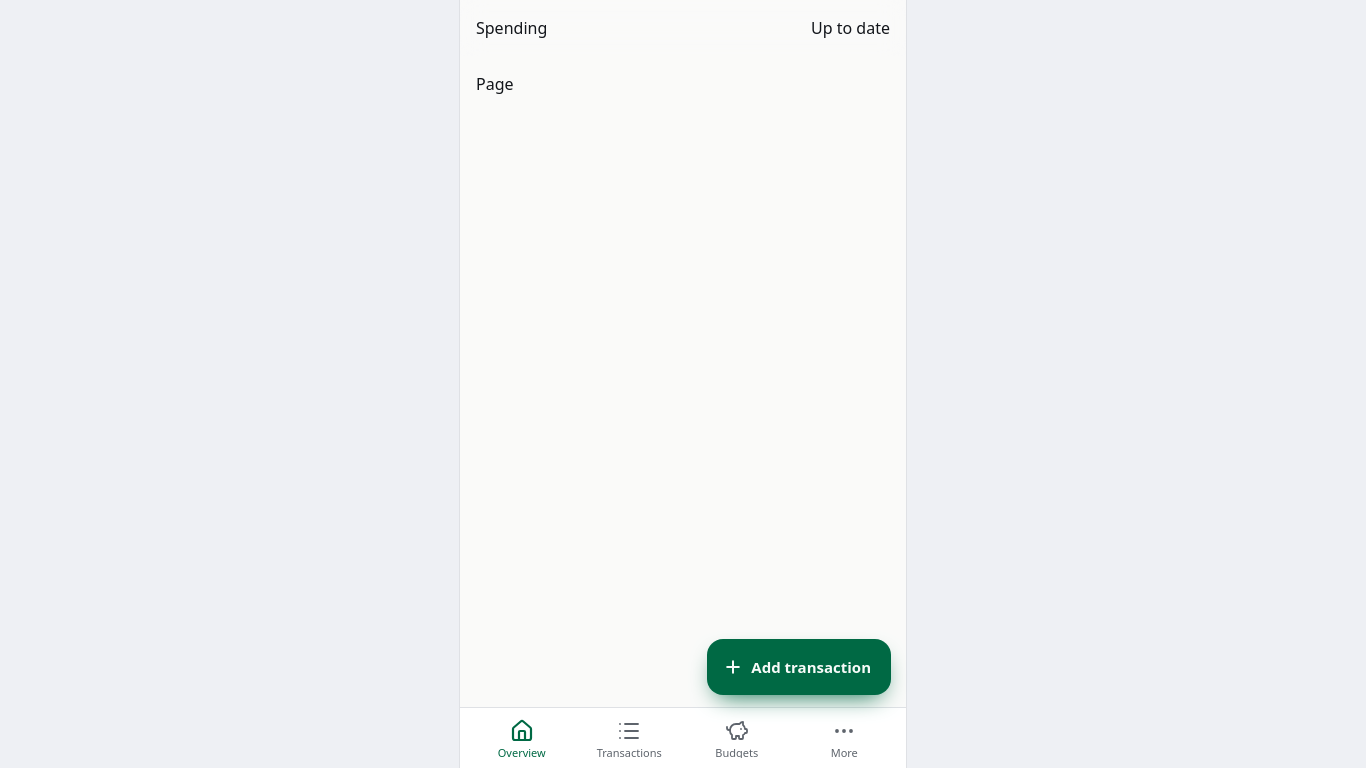
Test: cards shell › offers every destination and the add action from labelled navigation
Expected: the navigation bar named "Main navigation" is shown, [459, 707, 907, 767]
Expected: the link "Overview" is shown, [498, 718, 546, 760]
Click the button "More": {"x": 844, "y": 738} [790, 708, 898, 767]
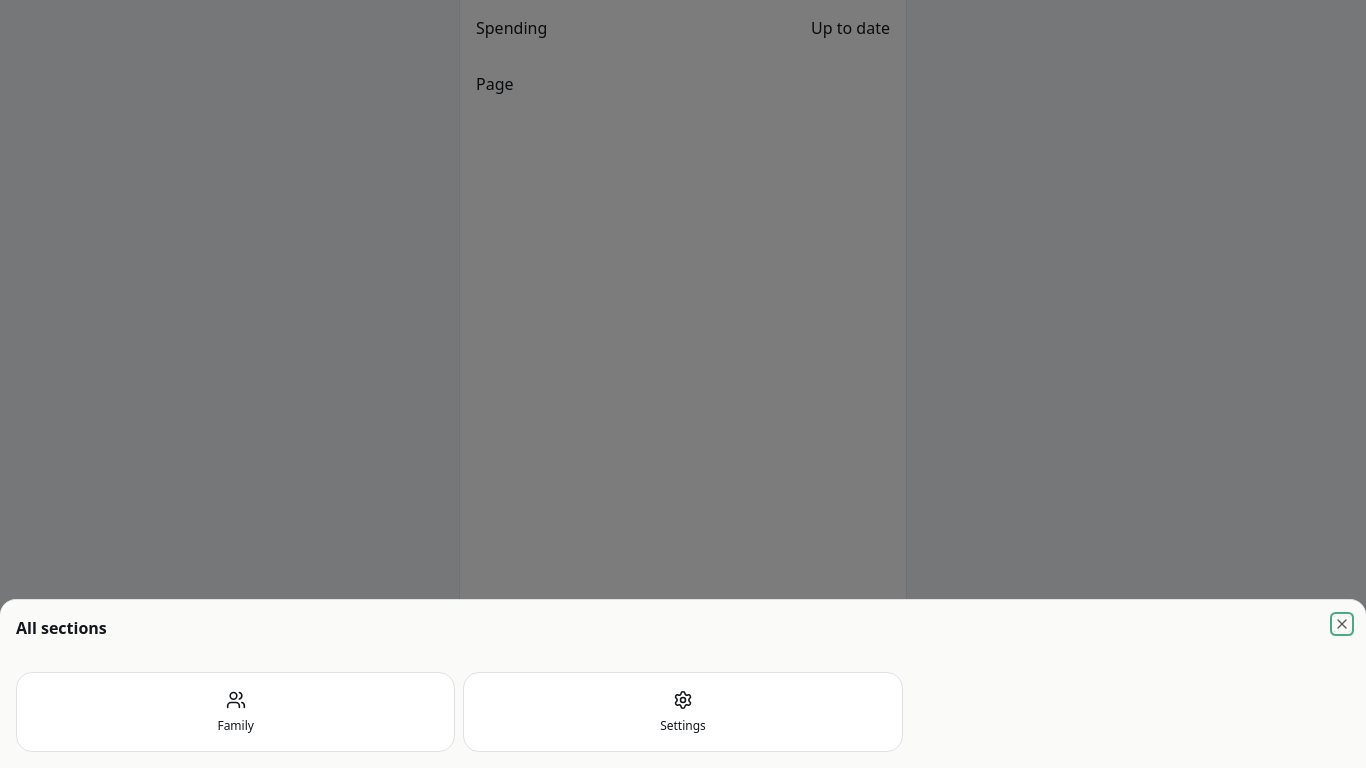
Expected: the link "Family" is shown, [16, 672, 455, 752]
Expected: the link "Settings" is shown, [463, 672, 903, 752]
